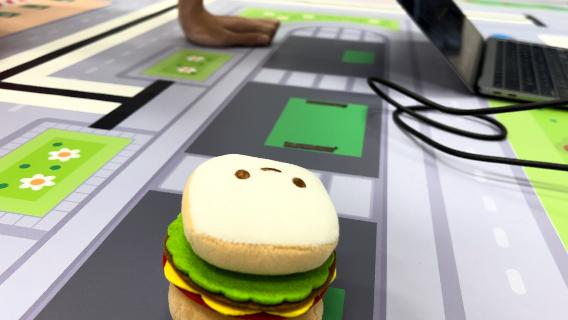sandwich: (160, 152, 342, 318)
